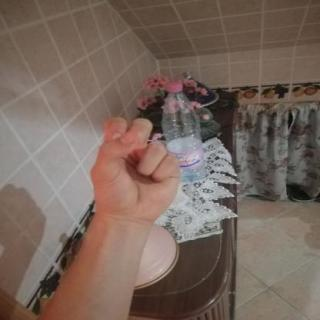QAAF: (72, 105, 202, 232)
